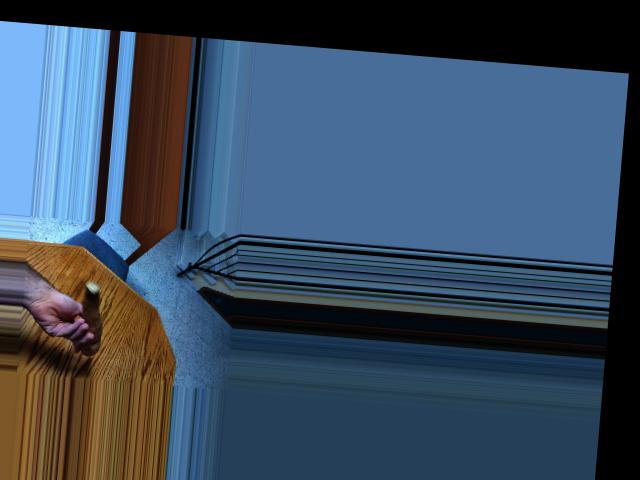sweet_potato: (71, 279, 106, 354)
